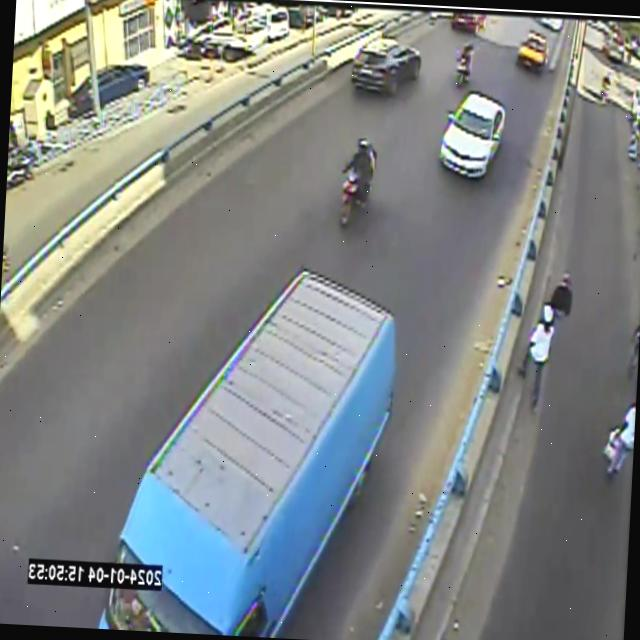car: (98, 271, 396, 637), (439, 92, 506, 177), (352, 37, 421, 95), (517, 31, 548, 73), (452, 12, 486, 33)
